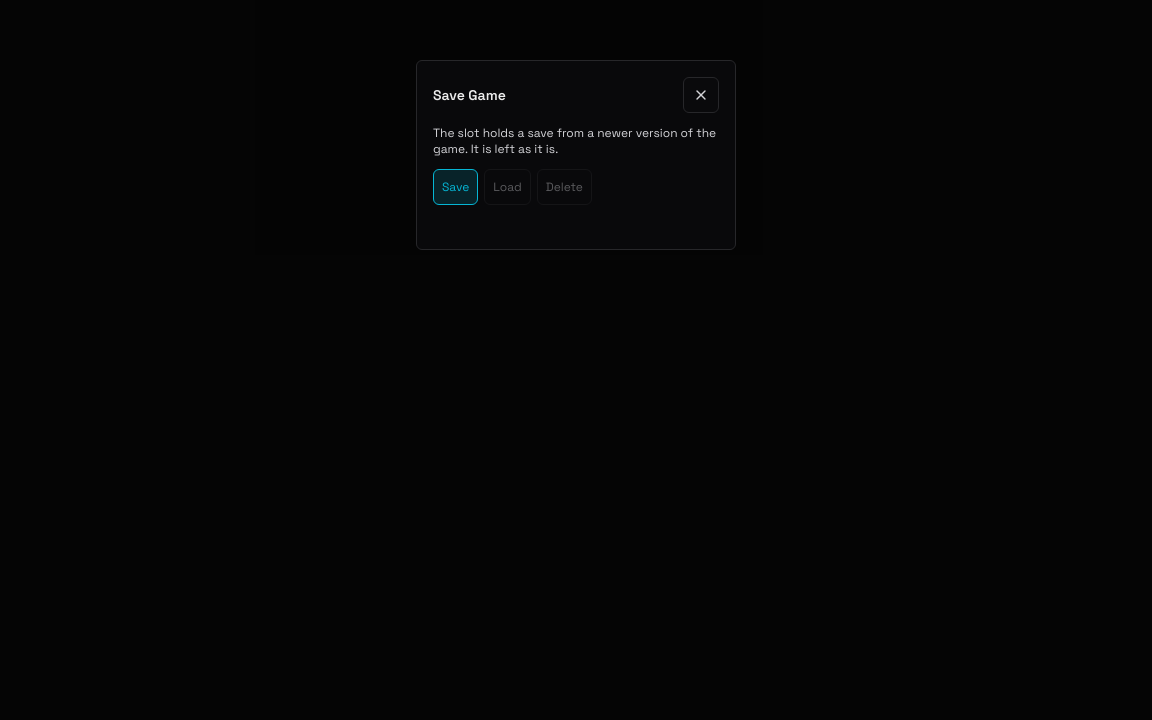
Test: SaveMenu › leaves a newer build's save alone, and says so
Expected: the dialog "Save Game" shows "from a newer version of the game", [433, 125, 716, 157]
Expected: the button "Load" is disabled, [484, 169, 531, 205]
What coordinates should you click on to do the following:
click the button "Save"
I would click on:
 (456, 187)
Its box is [433, 169, 478, 205].
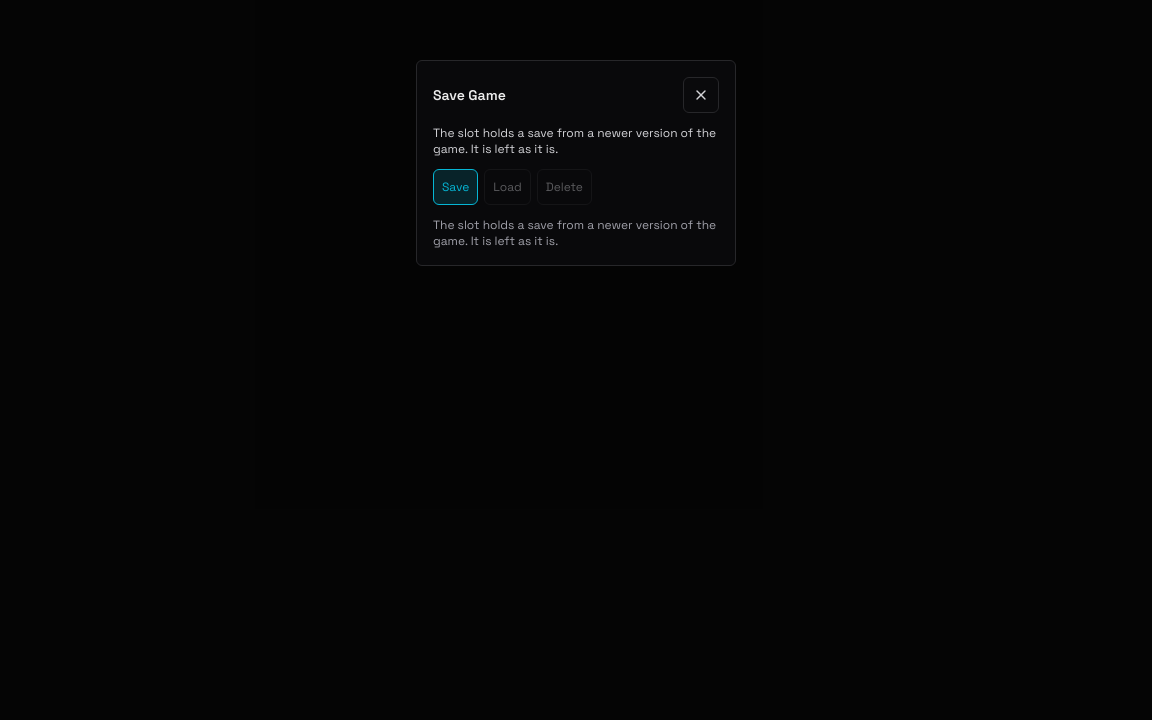
Expected: the message shows "from a newer version of the game", [433, 217, 716, 249]
